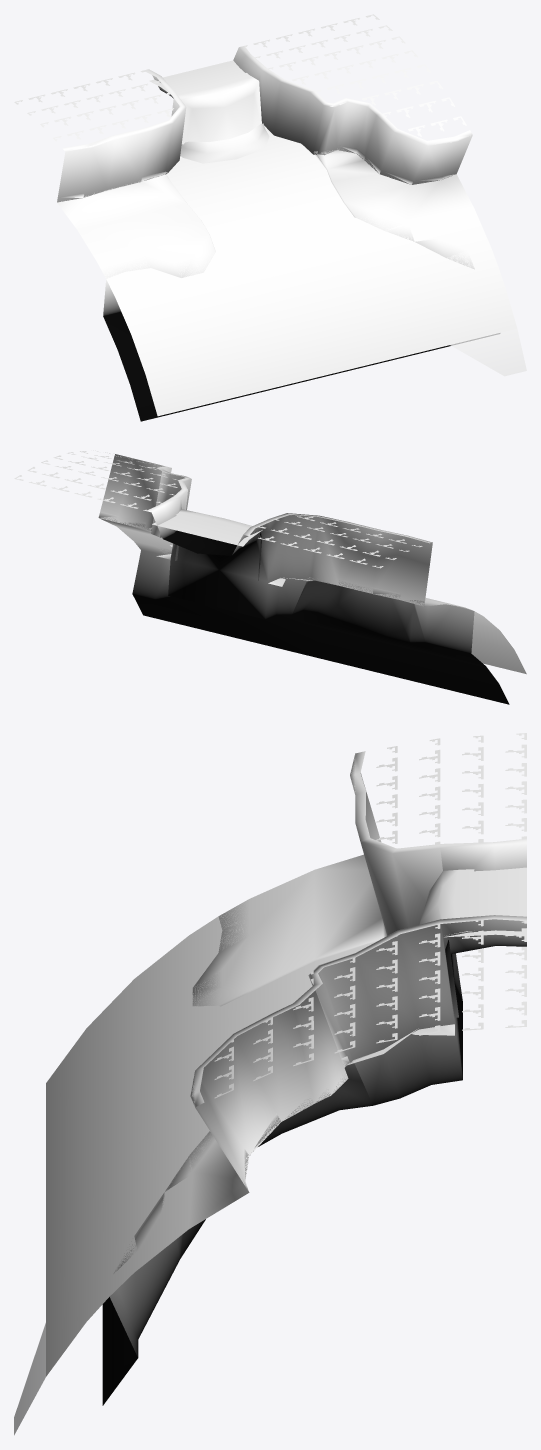
The model's file is grd_Msw_s_R_0.dae.
3 views of the same model, one above another, from view 1: azimuth 30°, elevation 25°; view 2: azimuth 150°, elevation 25°; view 3: azimuth 270°, elevation 25° (orthographic). The views are drawn at different scales.
Visible parts, largest first — view 1: ocean_6_0, wave_9_0, fall_ura_1_0, beach_3_0, beach_4_0, fall_0_0, grass_5_0, kemuri_mae_2_0, river1_7_0, river_edge_8_0; view 2: fall_ura_1_0, beach_4_0, grass_5_0, ocean_6_0, beach_3_0, river1_7_0, fall_0_0, wave_9_0; view 3: ocean_6_0, fall_ura_1_0, beach_3_0, wave_9_0, beach_4_0, grass_5_0, river1_7_0, fall_0_0.
Part boxes in pixels (box(x1,y1,x2,y2)): ocean_6_0: box(98, 127, 517, 416); wave_9_0: box(102, 213, 526, 378); fall_ura_1_0: box(57, 46, 472, 202); beach_3_0: box(57, 145, 490, 261); beach_4_0: box(97, 213, 499, 421); fall_0_0: box(174, 73, 261, 144); grass_5_0: box(14, 14, 466, 150); kemuri_mae_2_0: box(180, 123, 269, 163); river1_7_0: box(149, 61, 245, 92); river_edge_8_0: box(161, 60, 342, 234); fall_ura_1_0: box(99, 454, 432, 619); beach_4_0: box(132, 541, 509, 704); grass_5_0: box(14, 450, 422, 568); ocean_6_0: box(145, 543, 526, 674); beach_3_0: box(98, 511, 463, 607); river1_7_0: box(152, 515, 262, 546); fall_0_0: box(156, 509, 285, 586); wave_9_0: box(472, 614, 514, 649); ocean_6_0: box(46, 902, 418, 1376); fall_ura_1_0: box(190, 751, 526, 1190); beach_3_0: box(134, 854, 387, 1272); wave_9_0: box(14, 905, 252, 1435); beach_4_0: box(102, 899, 372, 1405); grass_5_0: box(191, 733, 526, 1105); river1_7_0: box(444, 867, 526, 937); fall_0_0: box(411, 869, 474, 1035).
Size of the model in its own units: 512 by 332 by 378.
Materials: 10 (1 with a texture image).
